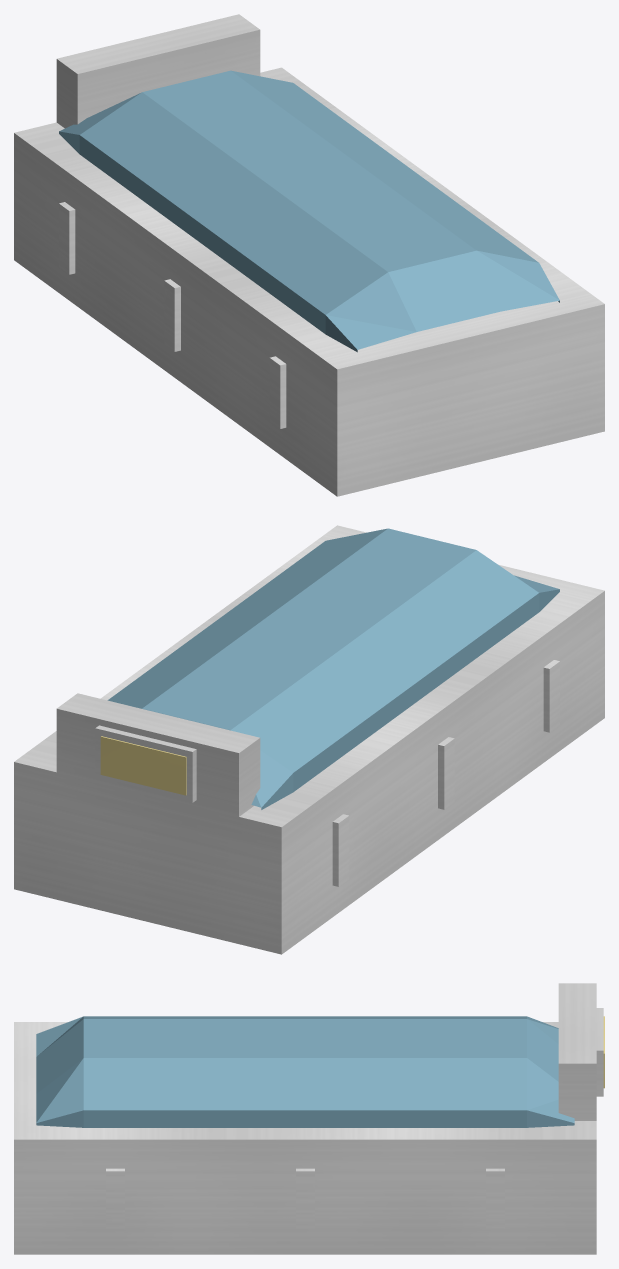
Rendered from cryptosleep_casket.obj.
The picture shows the model from 3 angles, top to bottom: view 1: azimuth 30°, elevation 25°; view 2: azimuth 150°, elevation 25°; view 3: azimuth 270°, elevation 25°; orthographic projection. The views are drawn at different scales.
Parts seen in each view (by area): view 1: cryptosleep_casket; view 2: cryptosleep_casket; view 3: cryptosleep_casket.
Boxes of the visible parts, <box> form: cryptosleep_casket: <box>14,14,604,496</box>; cryptosleep_casket: <box>14,525,604,954</box>; cryptosleep_casket: <box>14,983,604,1254</box>.
Bounding box in the file's own units: 0.92 × 0.6 × 1.87.
